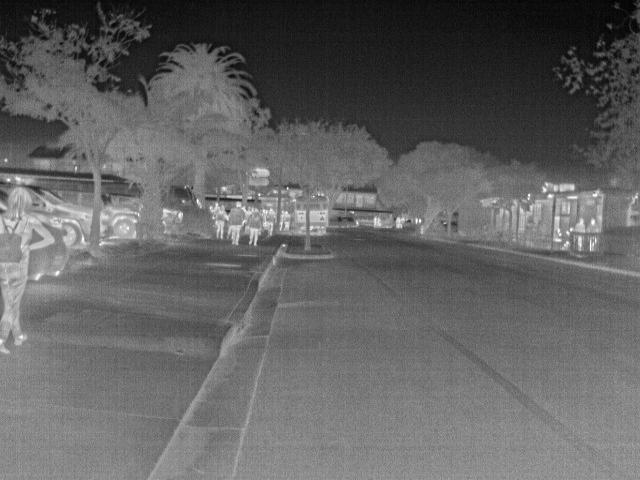car: (29, 182, 93, 246), (101, 199, 140, 238), (163, 207, 186, 234), (336, 215, 362, 226)
person: (1, 185, 56, 359), (224, 198, 248, 244), (245, 207, 266, 245), (212, 204, 230, 238), (585, 216, 600, 232), (574, 218, 590, 232), (551, 226, 565, 242), (373, 214, 379, 228), (375, 215, 382, 227)
